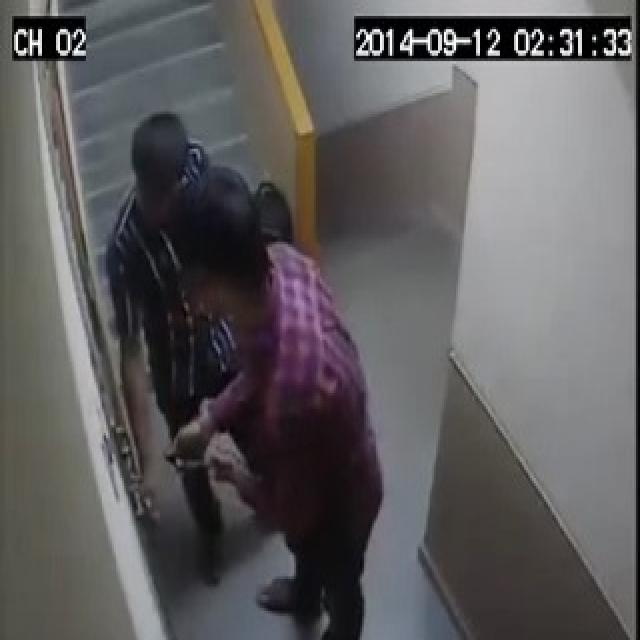burglary: (92, 370, 261, 566)
